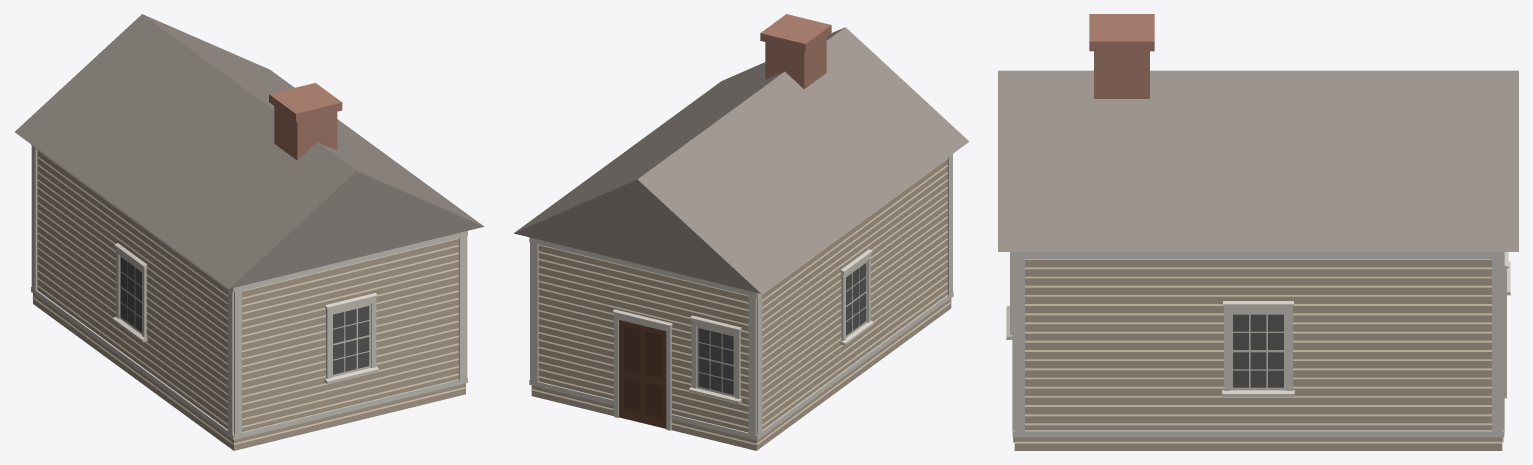
File: inf_shoemaker_shop__inferred_1835.glb
3 renders of one model, left to right at view 1: azimuth 30°, elevation 25°; view 2: azimuth 150°, elevation 25°; view 3: azimuth 270°, elevation 25°, orthographic. The views are drawn at different scales.
Visible parts, largest first — view 1: inf_shoemaker_shop__inferred_1835; view 2: inf_shoemaker_shop__inferred_1835; view 3: inf_shoemaker_shop__inferred_1835.
Part boxes in pixels (left/top/right/bottom): inf_shoemaker_shop__inferred_1835: left=15, top=14, right=483, bottom=450; inf_shoemaker_shop__inferred_1835: left=513, top=14, right=969, bottom=450; inf_shoemaker_shop__inferred_1835: left=998, top=14, right=1518, bottom=450.
Bounding box in the file's own units: 5.38 × 5.87 × 7.82.
